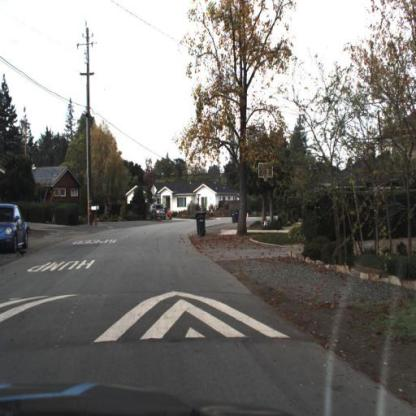car: (1, 200, 31, 259), (146, 200, 167, 224), (163, 203, 175, 224)
pedestrian: (209, 202, 216, 220)
